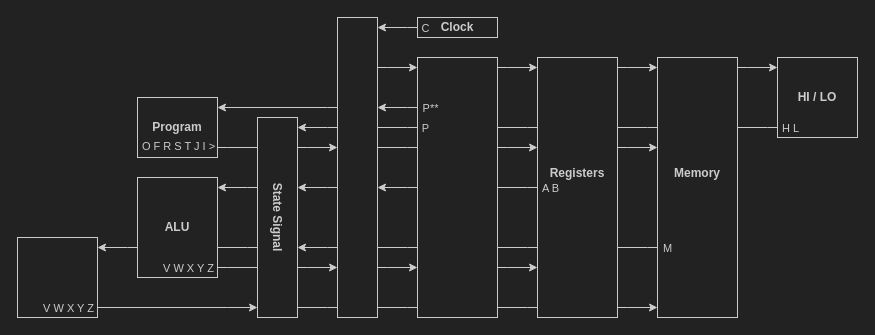
Image size: 875x335. Some labels were removed from this diagram. The box of each missing label's shape, as (x1, y1, x2, y2) in pixels:
Action Signal: (336, 16, 378, 318)
Memory ALU: (16, 236, 98, 318)
PC: (416, 56, 498, 318)
